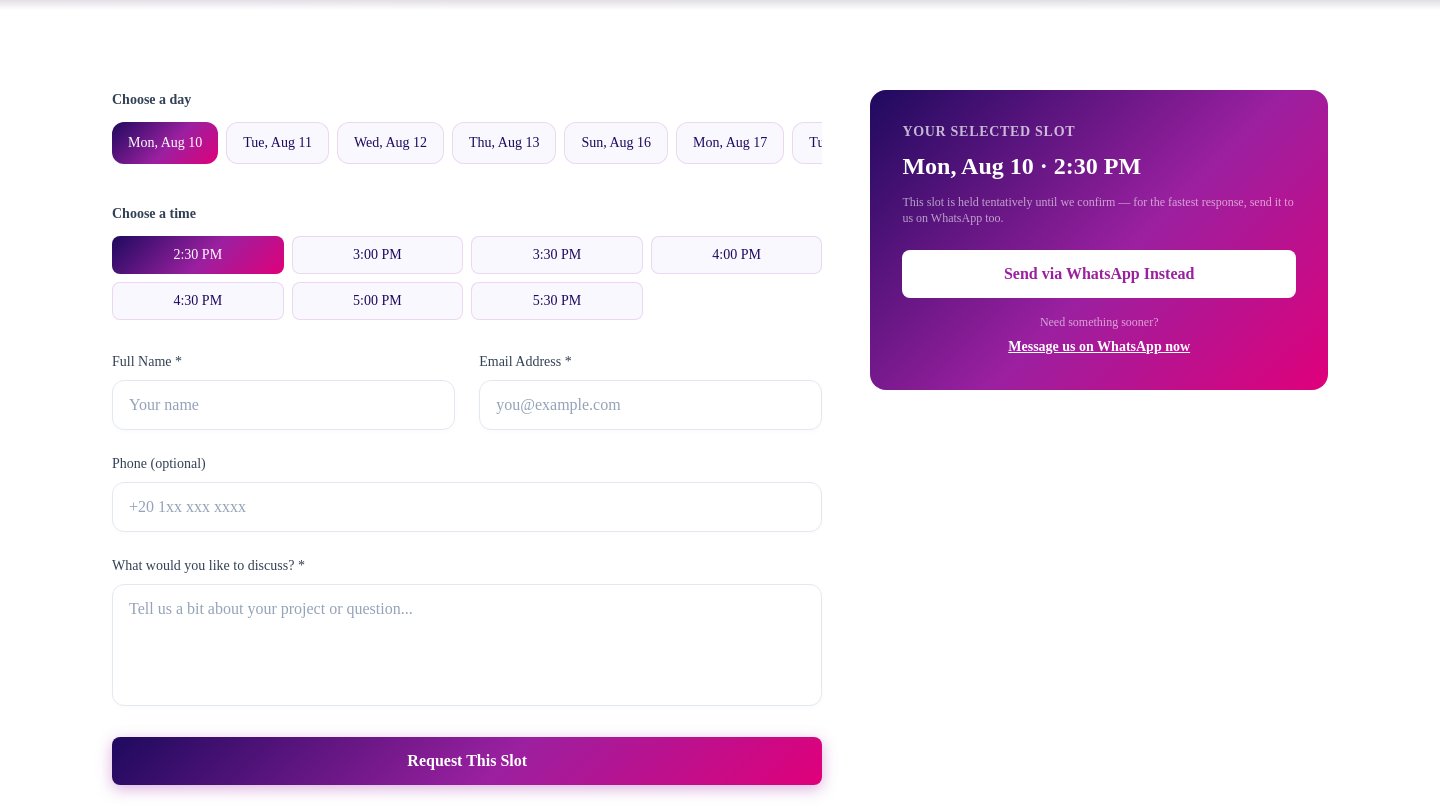
ConsultationPage › shows a server error message and tracks a server-reason error event when the API rejects
(page scrolled)
Check: the element with test id "day-picker" is shown, box [112,122,822,172]
Type "Karim Hassan" into the field labelled "Full Name *". click: (284, 405)
box: [112,380,455,430]
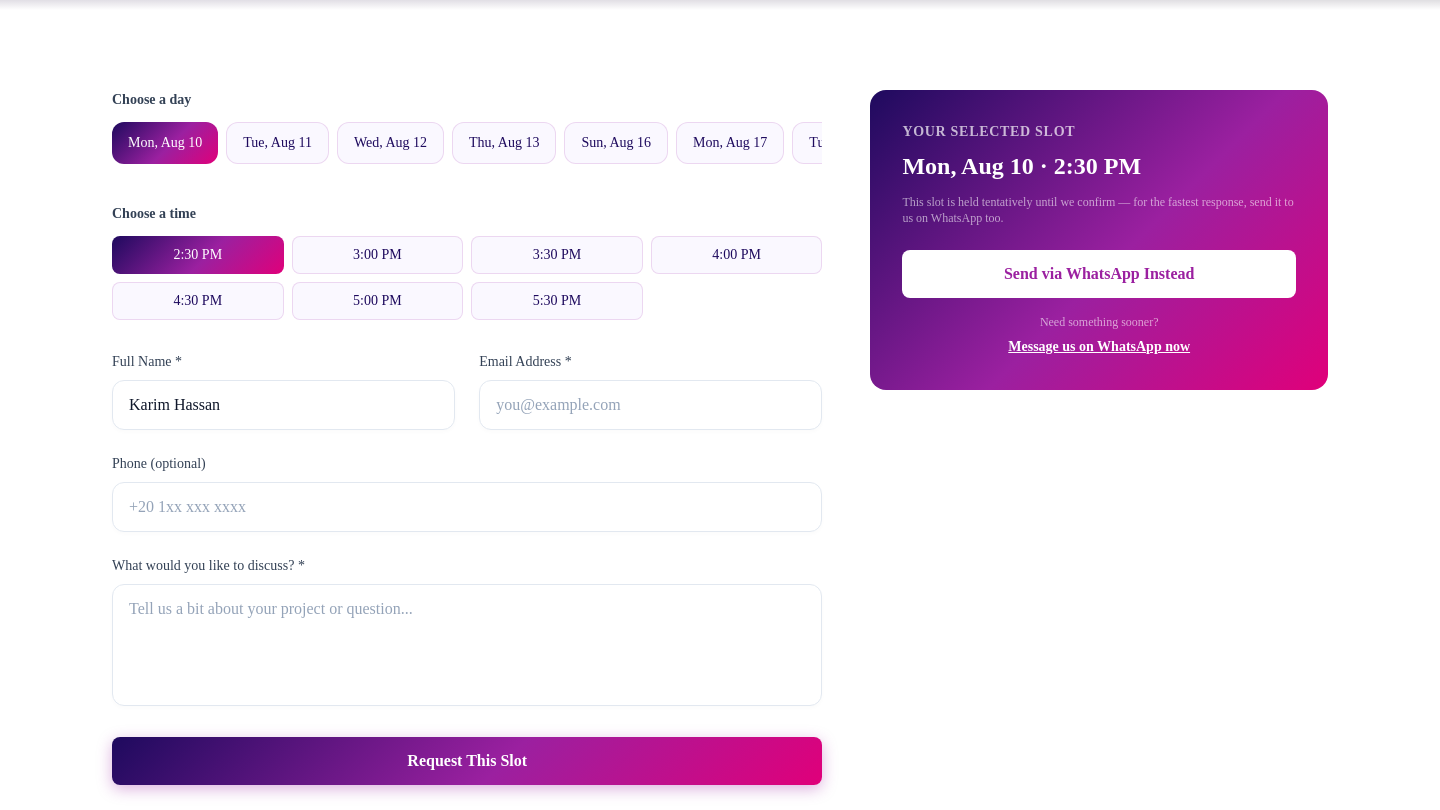
Type "karim@example.com" into the field labelled "Email Address *". click: (651, 405)
box: [479,380,822,430]
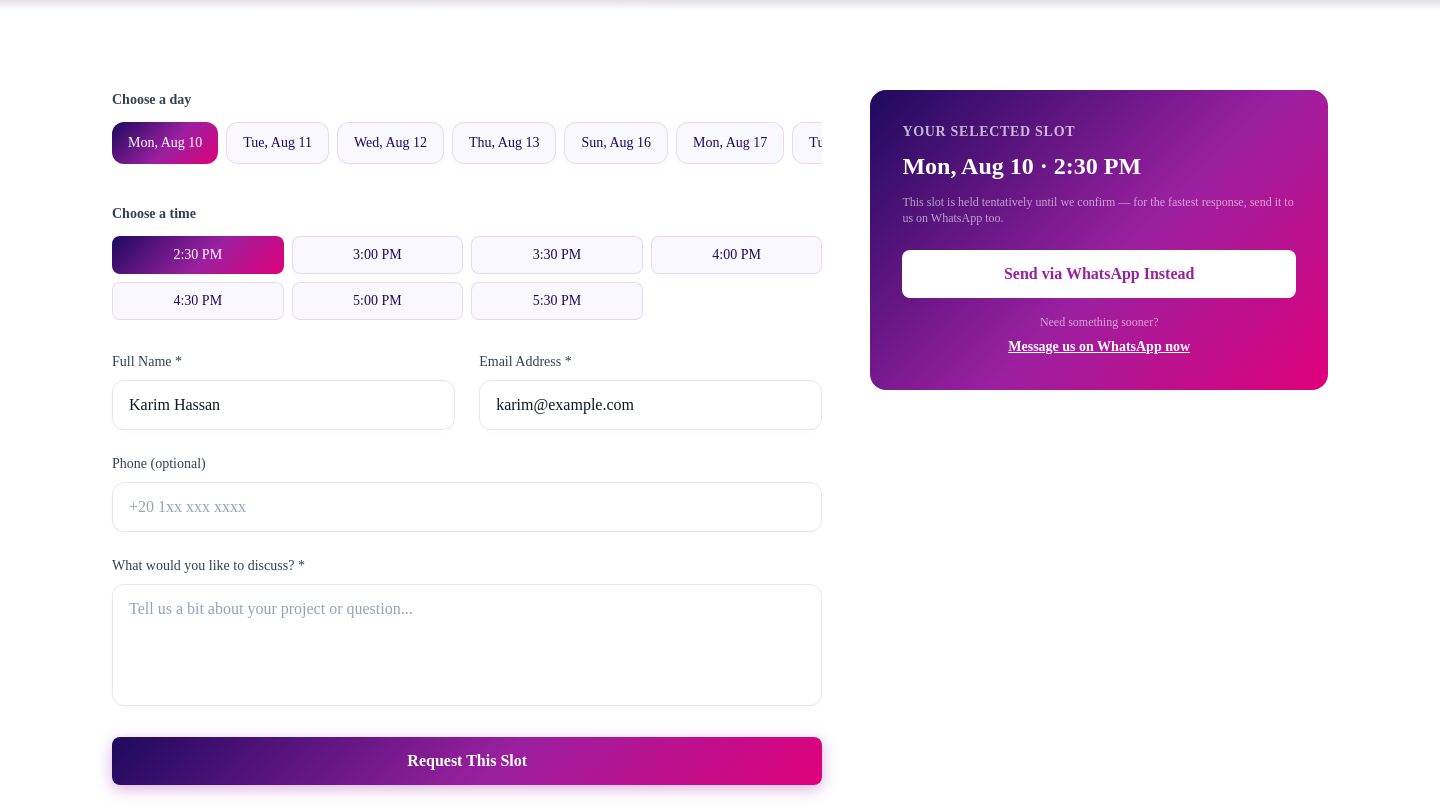
Type "I would like to discuss a new website for my clinic." into the text box labelled "What would you like to discuss? *". click: (467, 645)
box: [112,584,822,706]
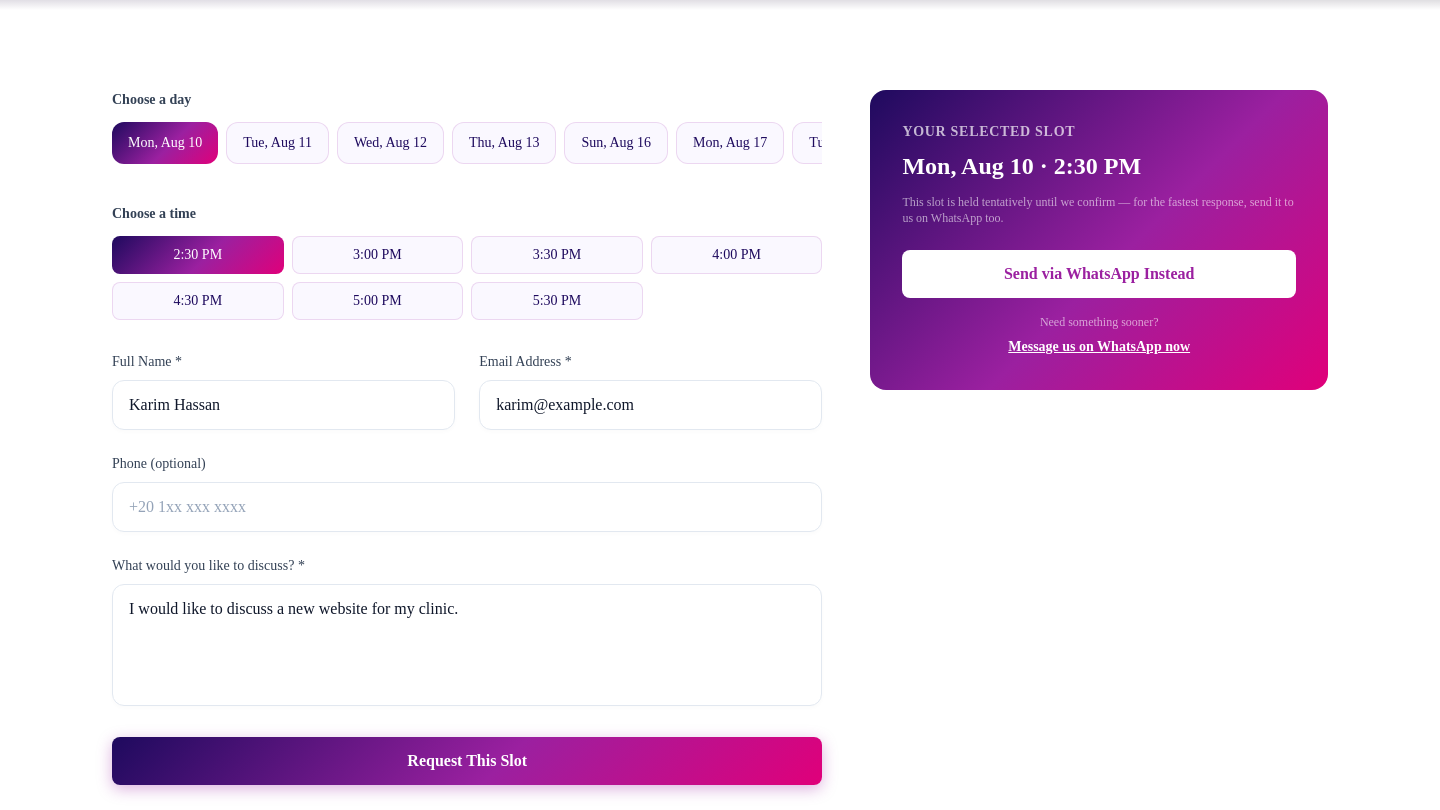
Click the button "Request This Slot". click: (467, 761)
box: [112,737,822,785]
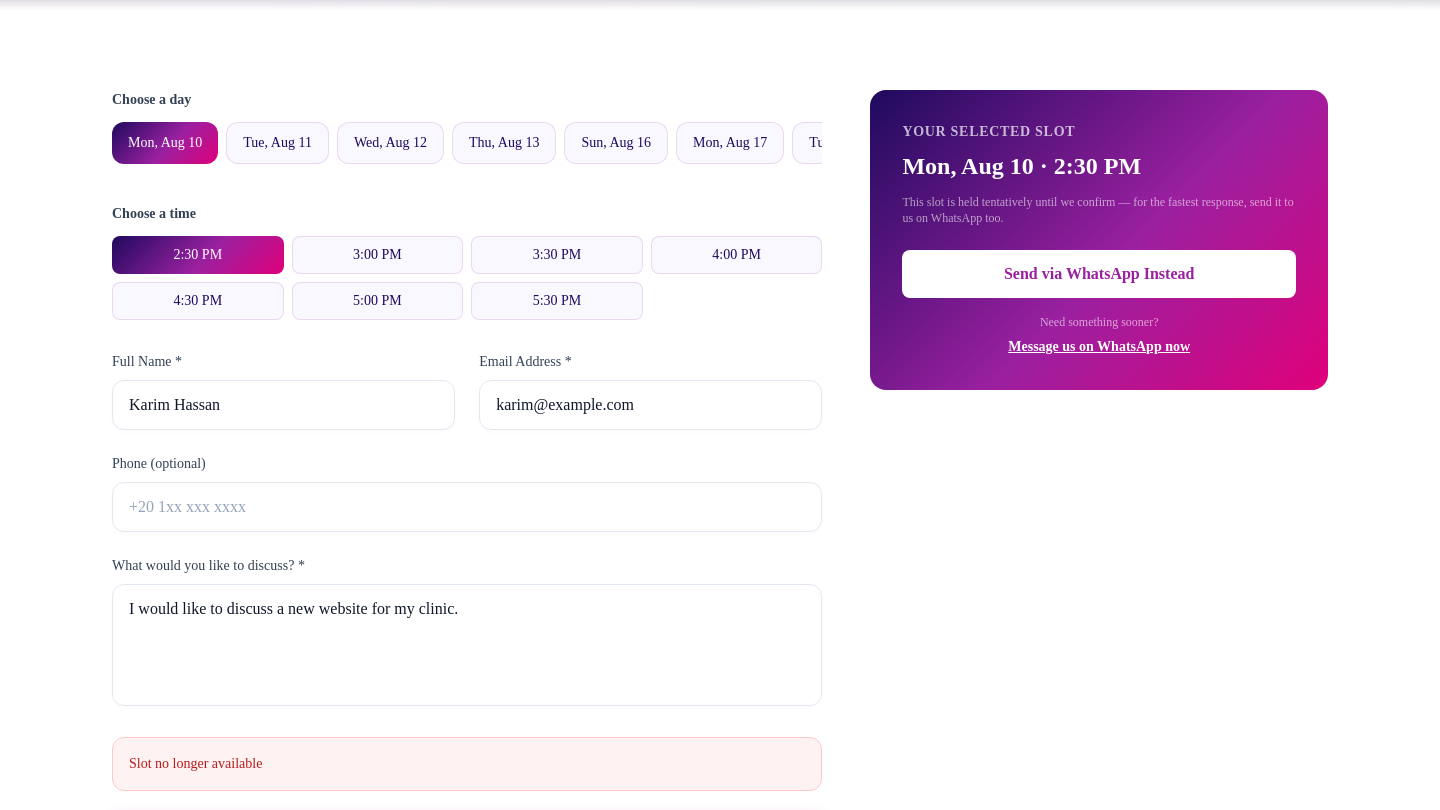
Check: the text "Slot no longer available" is shown, box [112,737,822,791]
